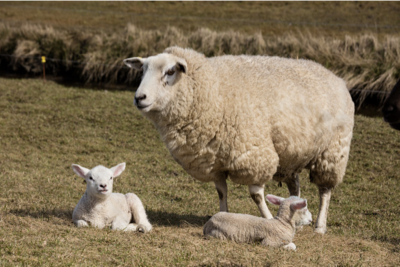koyun: (125, 46, 354, 154), (202, 192, 312, 251), (70, 163, 152, 232)
